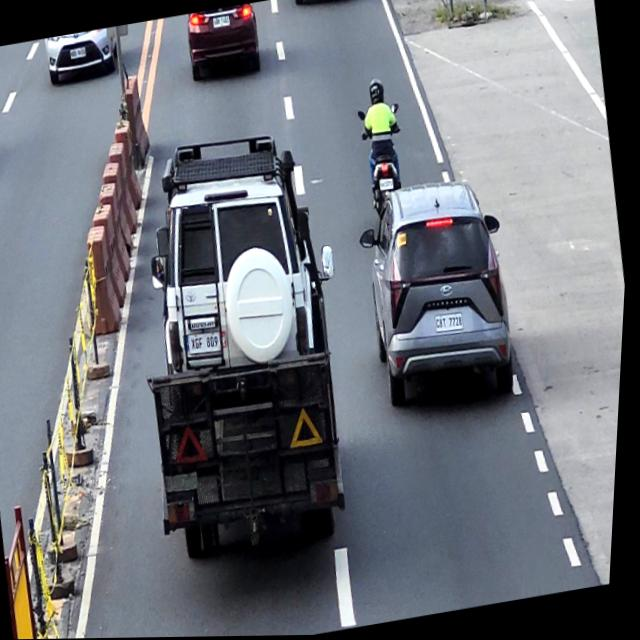Car: (132, 128, 357, 386), (348, 171, 531, 415), (183, 3, 265, 83), (43, 25, 132, 86)
License-Plate: (190, 329, 228, 357), (437, 313, 470, 337), (212, 14, 232, 30), (69, 47, 89, 61), (380, 178, 397, 192)
Motorcycle: (354, 102, 417, 218)
Truck: (145, 363, 365, 566)
